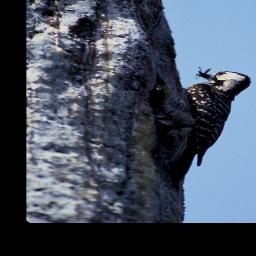Woodpecker: (149, 65, 252, 192)
